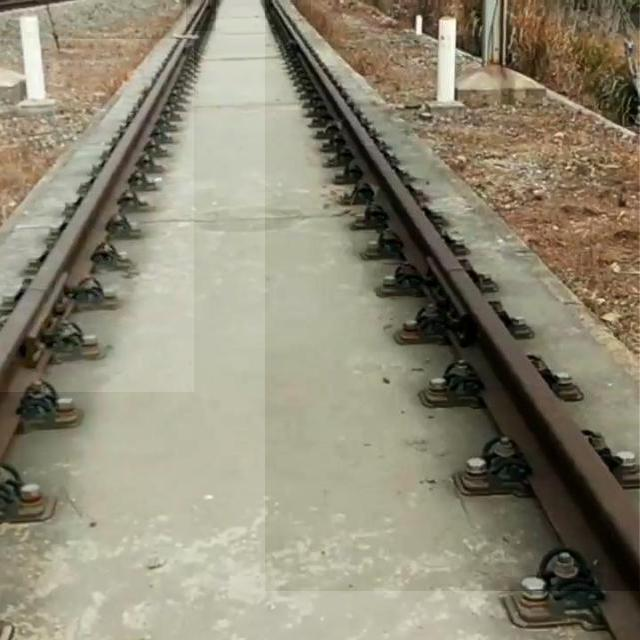rail: (267, 1, 640, 592), (2, 41, 195, 393), (188, 1, 217, 32)
